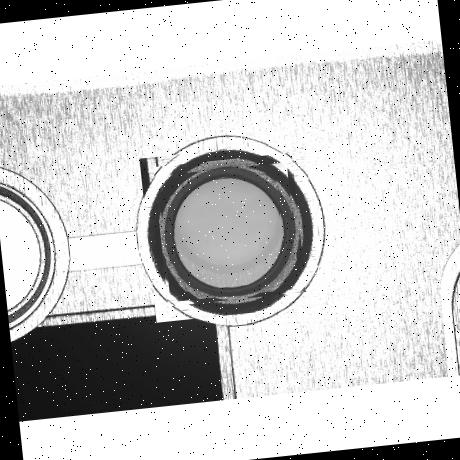Hole: (139, 140, 321, 322)
Hole2: (153, 152, 307, 306)
Hole3: (157, 160, 299, 302)
Hole4: (167, 172, 286, 292)
